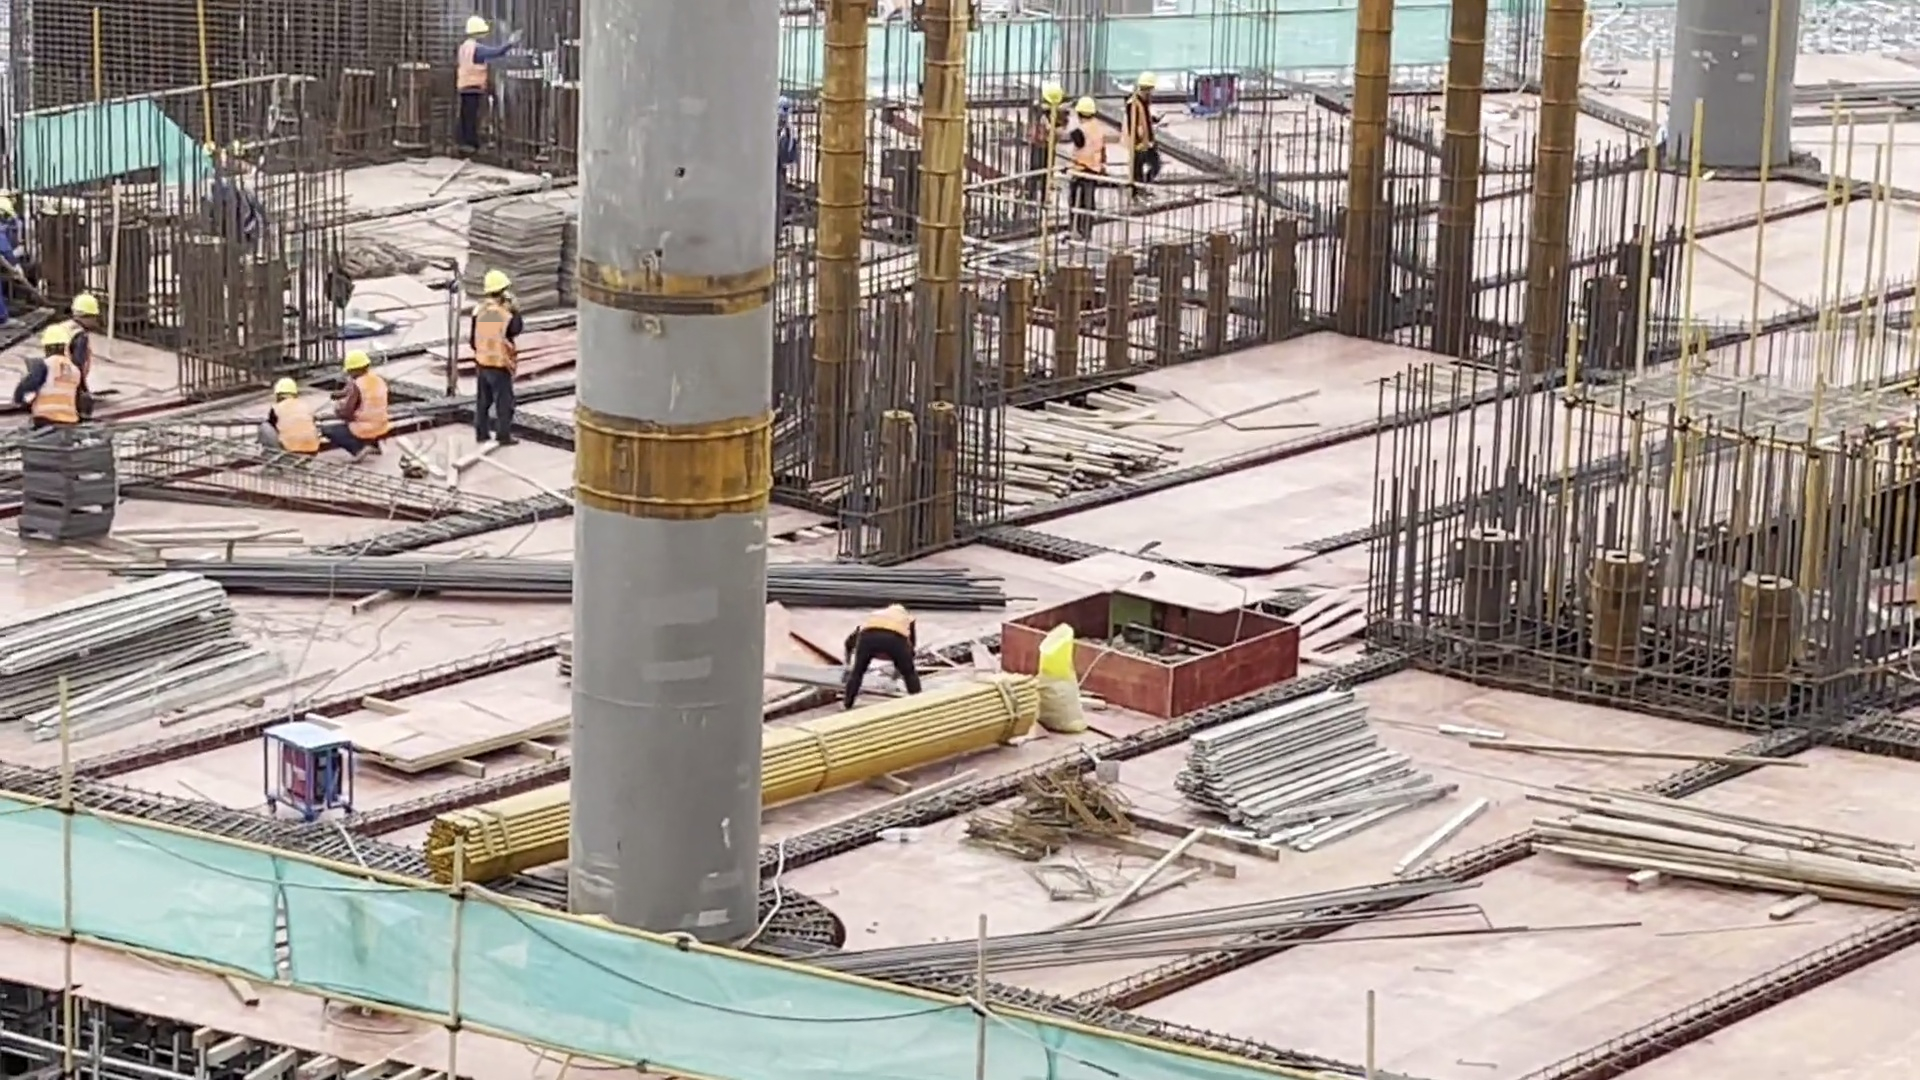helmet: (70, 289, 102, 316), (480, 268, 511, 295), (40, 323, 73, 345), (344, 351, 375, 374), (270, 375, 299, 396), (1041, 82, 1061, 105), (466, 14, 490, 34), (1075, 97, 1097, 117), (1137, 69, 1159, 88)
person: (453, 12, 528, 154), (840, 599, 926, 705), (468, 270, 518, 446), (322, 354, 391, 457), (13, 323, 78, 432), (1066, 97, 1109, 241), (257, 374, 318, 463), (1124, 74, 1164, 197), (1035, 72, 1062, 206), (73, 292, 100, 374)
vest: (345, 376, 395, 444), (31, 357, 83, 423), (473, 300, 515, 372), (272, 399, 319, 453), (1074, 121, 1100, 174)
